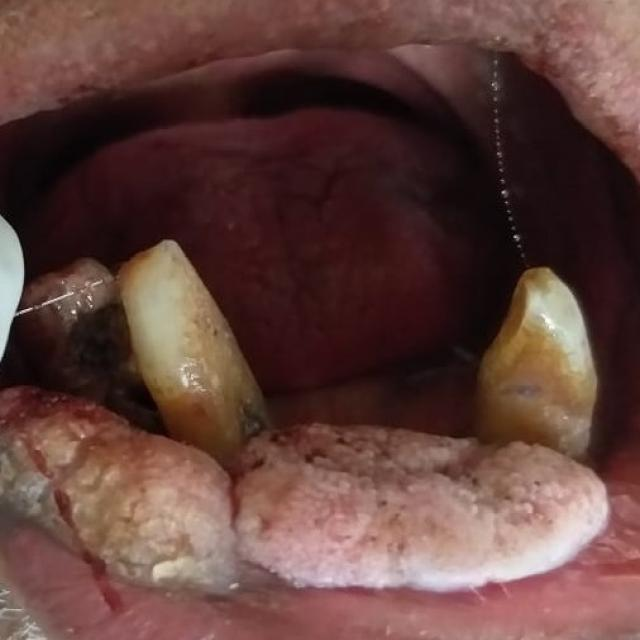Cancer: (13, 374, 616, 608)
